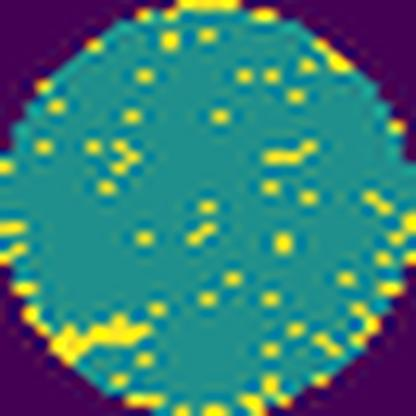Edge-Loc: (23, 305, 153, 364)
